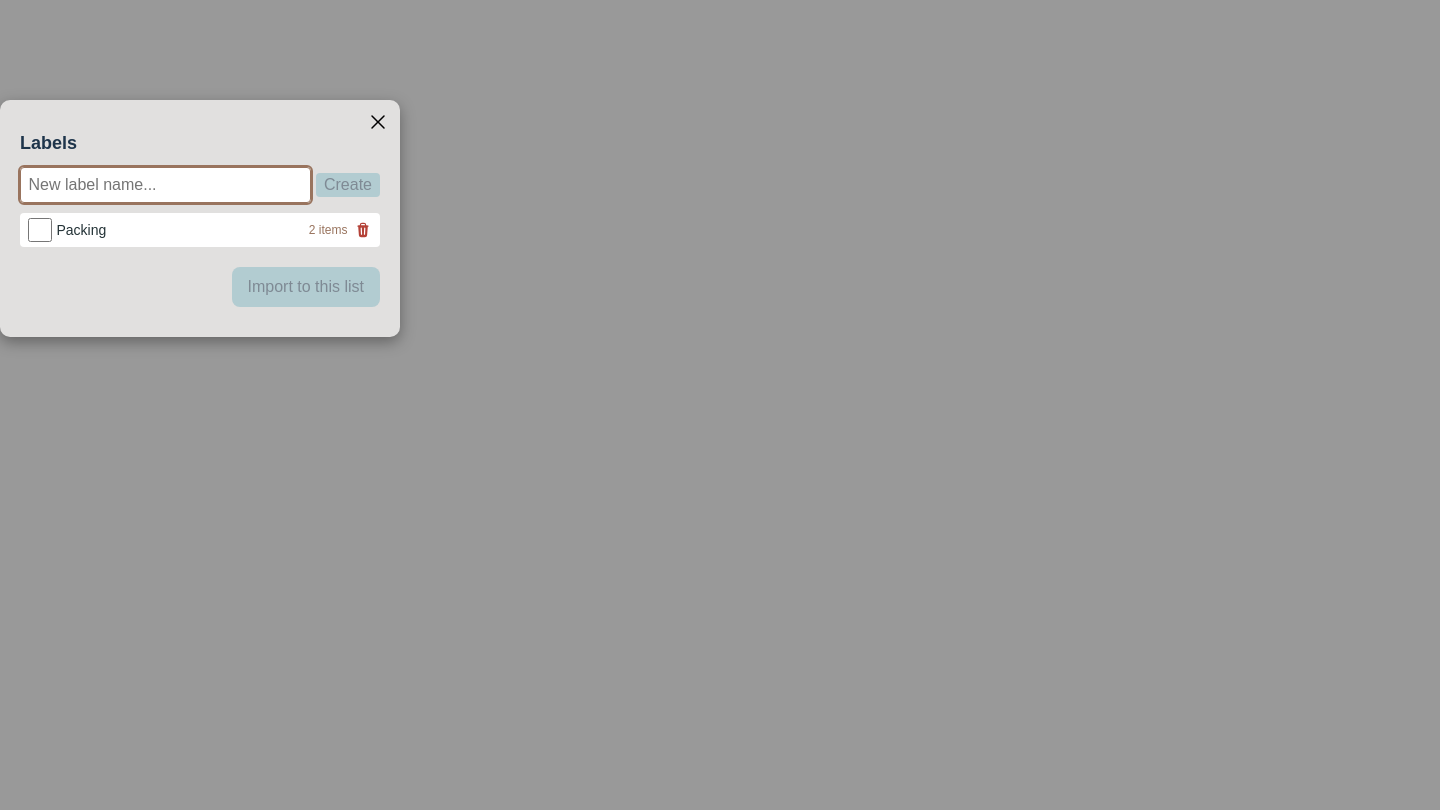
Test: returns to the label list from the back button
Click the text "Packing". click: (81, 230)
box: [56, 222, 106, 238]
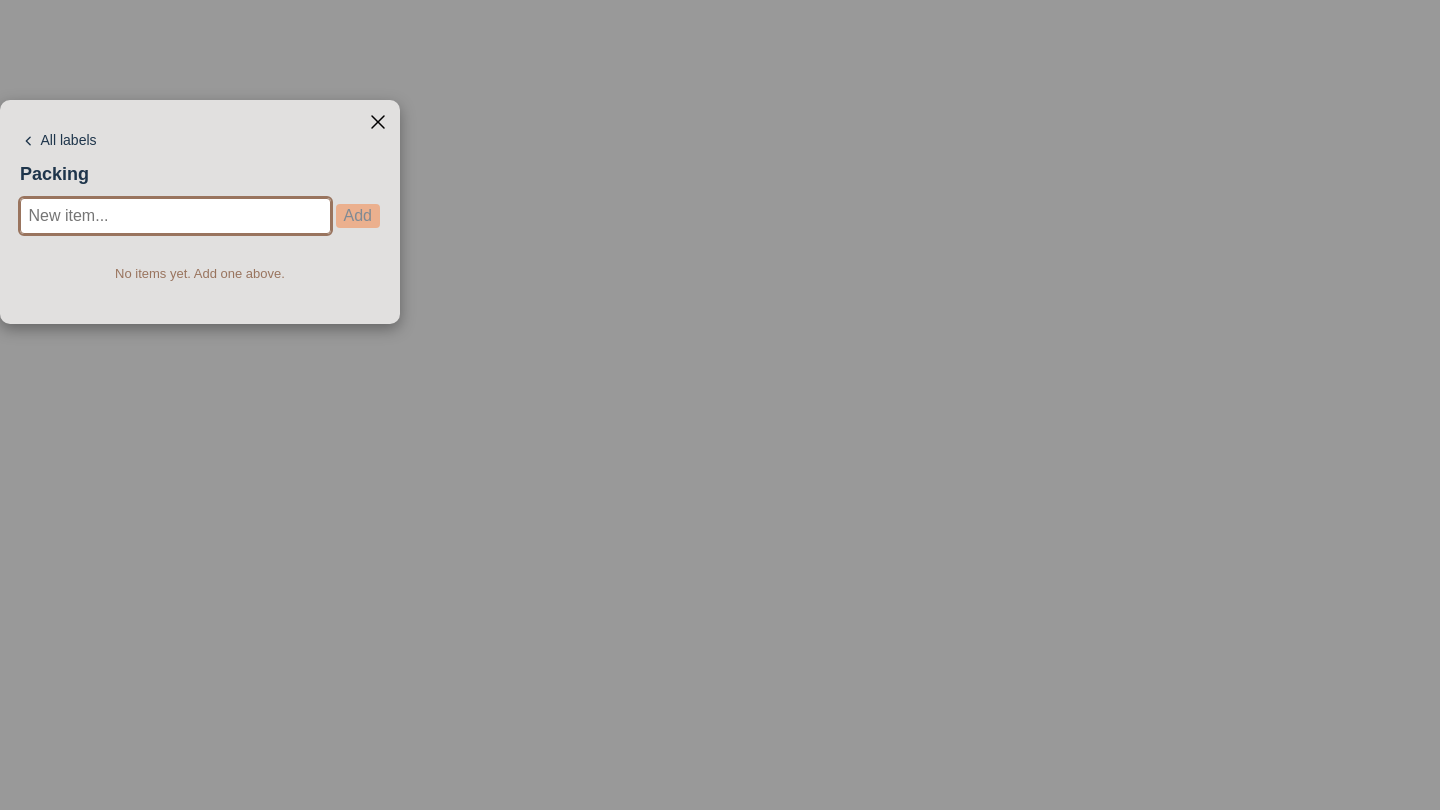
Check: the text "No items yet. Add one above." is shown, box [115, 266, 285, 281]
Click the button "All labels". click: (69, 140)
box: [20, 130, 380, 151]
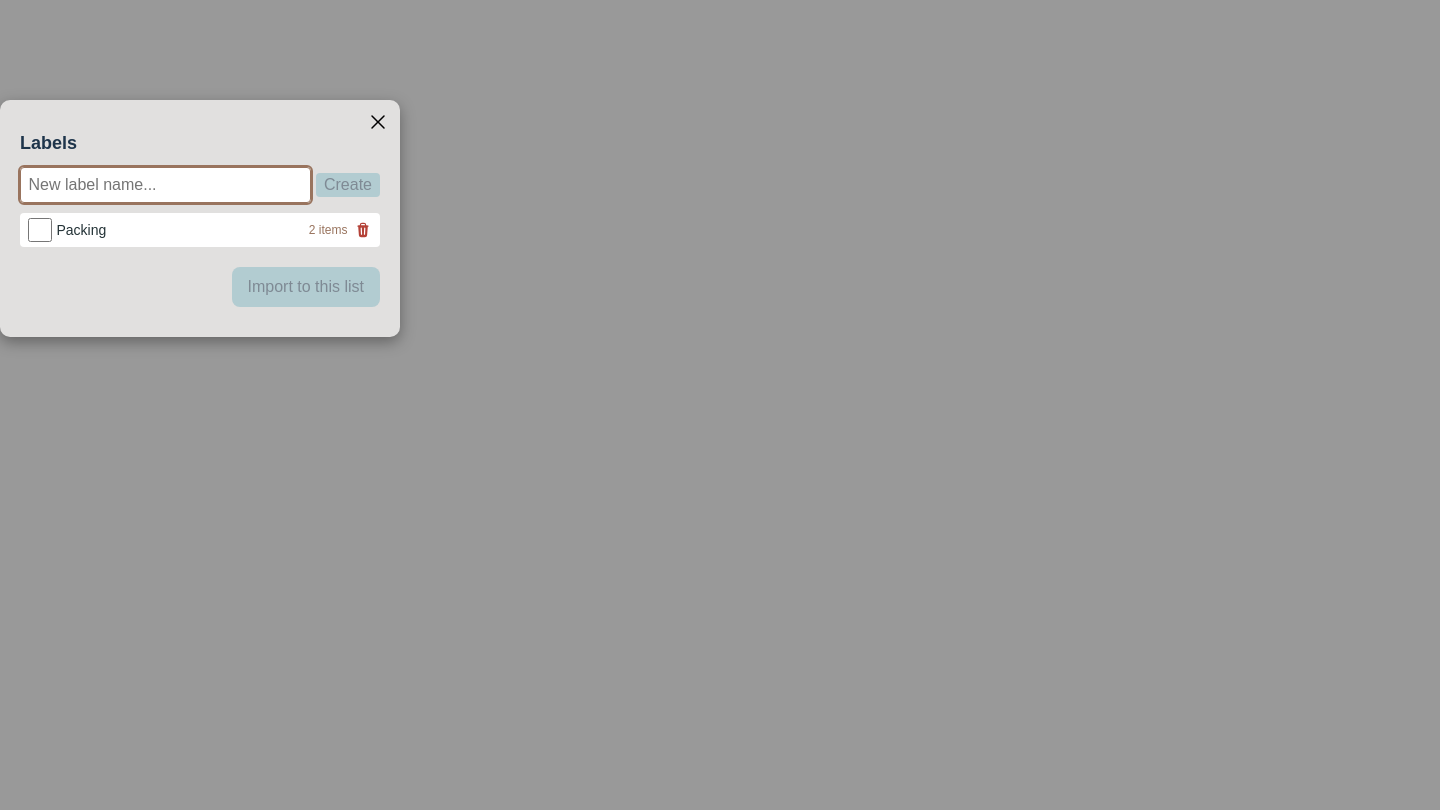
Check: the text "2 items" is shown, box [309, 221, 348, 239]
